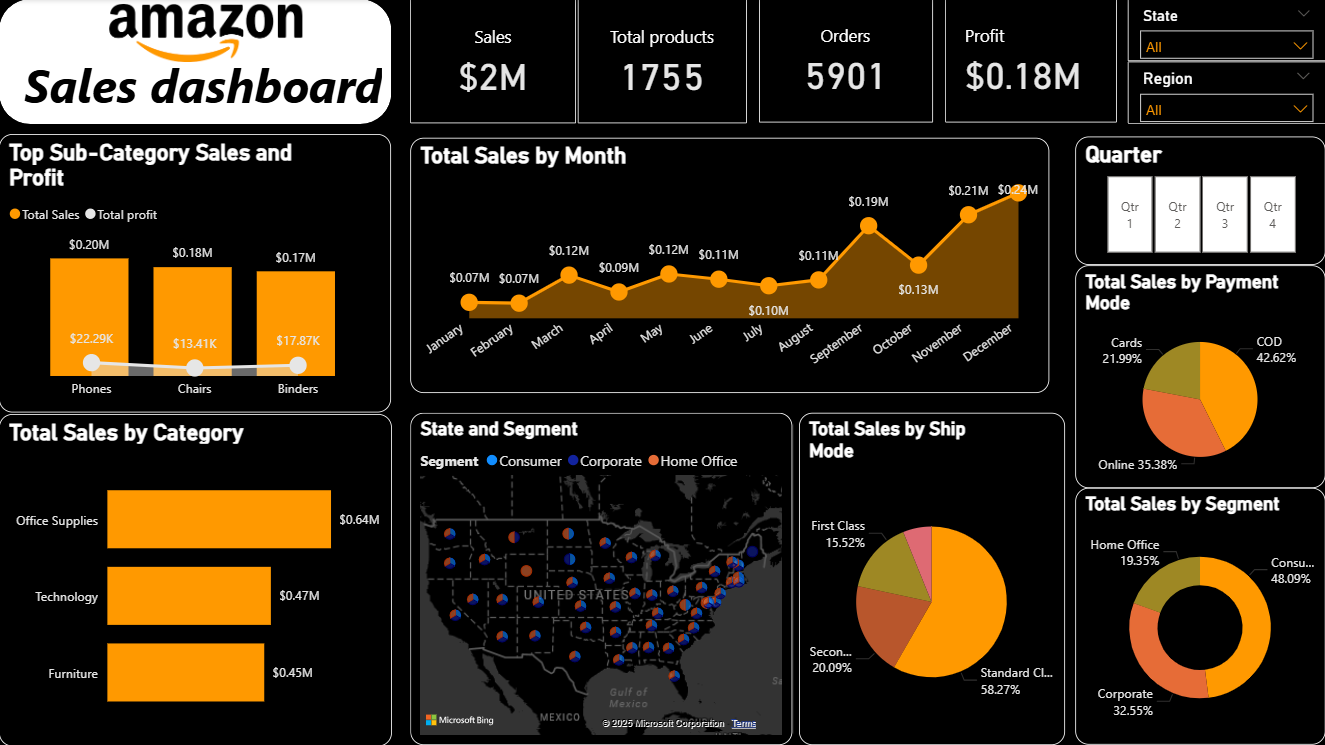

Layout of this report page (visuals, bound fields, positions):
{"tool":"powerbi","page":{"name":"Page 1","canvas":[1280,720],"ordinal":0},"visuals":[{"type":"shape","title":"Amazon Sales Performance","box":[0,0,378.7,120.8],"z":0,"group":"g1"},{"type":"image","box":[75.7,0,247.1,65.7],"z":1000,"group":"g1"},{"type":"cardVisual","fields":{"Data":["Amazon stores.Total products"]},"box":[558.3,0,163.3,120],"z":4000},{"type":"cardVisual","fields":{"Data":["Amazon stores.Total orders"]},"box":[733.5,0,167.7,119.4],"z":5000},{"type":"cardVisual","fields":{"Data":["Amazon stores.Total profit"]},"box":[913.3,0,165.3,119.4],"z":6000},{"type":"cardVisual","fields":{"Data":["Amazon stores.Total Sales"]},"box":[396.7,0,160,120],"z":7000},{"type":"slicer","fields":{"Values":["Amazon stores.State"]},"box":[1089.1,0,190.9,60],"z":8000},{"type":"slicer","fields":{"Values":["Amazon stores.Region"]},"box":[1089.1,60,190.9,60],"z":9000},{"type":"lineStackedColumnComboChart","title":"Top Sub-Category Sales and Profit","fields":{"Y":["Amazon stores.Total Sales"],"Y2":["Amazon stores.Total profit"],"Category":["Amazon stores.Sub-Category"]},"box":[0,130.4,378.7,269],"z":10000},{"type":"clusteredBarChart","fields":{"Category":["Amazon stores.Category"],"Y":["Amazon stores.Total Sales"]},"box":[0,400,378.9,320.6],"z":12000},{"type":"pieChart","fields":{"Category":["Amazon stores.Payment Mode"],"Y":["Amazon stores.Total Sales"]},"box":[1038.3,256.7,241.7,215],"z":13000},{"type":"slicer","title":"Quarter","fields":{"Values":["Amazon stores.Order Date.Variation.Date Hierarchy.Quarter"]},"box":[1038.6,132.9,241.4,124.3],"z":14000},{"type":"lineChart","fields":{"Y":["Amazon stores.Total Sales"],"Category":["Amazon stores.Order Date.Variation.Date Hierarchy.Month"]},"box":[396.7,133.3,616.7,246.7],"z":15000},{"type":"map","fields":{"Category":["Amazon stores.State"],"Series":["Amazon stores.Segment"]},"box":[396.6,399.3,369.1,321.1],"z":16000},{"type":"donutChart","fields":{"Category":["Amazon stores.Segment"],"Y":["Amazon stores.Total Sales"]},"box":[1038.3,471.7,241.7,248.3],"z":17000},{"type":"pieChart","fields":{"Category":["Amazon stores.Ship Mode"],"Y":["Amazon stores.Total Sales"]},"box":[772.6,399.3,256.6,321.1],"z":18000},{"type":"group","id":"g1","title":"Group 1","box":[0,0,378.8,120.6],"z":18001}]}

Visuals, with their boxes in screenshot pixels (x1, y1, x2, y2), scaled from the page's 1280x720 canvas onto the 1325x745 screenshot:
"Amazon Sales Performance" shape: rect(0, 0, 392, 125)
image: rect(78, 0, 334, 68)
cardVisual - Amazon stores.Total products: rect(578, 0, 747, 124)
cardVisual - Amazon stores.Total orders: rect(759, 0, 933, 124)
cardVisual - Amazon stores.Total profit: rect(945, 0, 1117, 124)
cardVisual - Amazon stores.Total Sales: rect(411, 0, 576, 124)
slicer - Amazon stores.State: rect(1127, 0, 1324, 62)
slicer - Amazon stores.Region: rect(1127, 62, 1324, 124)
"Top Sub-Category Sales and Profit" lineStackedColumnComboChart: rect(0, 135, 392, 413)
clusteredBarChart - Amazon stores.Category x Amazon stores.Total Sales: rect(0, 414, 392, 744)
pieChart - Amazon stores.Payment Mode x Amazon stores.Total Sales: rect(1075, 266, 1324, 488)
"Quarter" slicer: rect(1075, 138, 1324, 266)
lineChart - Amazon stores.Total Sales x Amazon stores.Order Date.Variation.Date Hierarchy.Month: rect(411, 138, 1049, 393)
map - Amazon stores.State x Amazon stores.Segment: rect(411, 413, 793, 744)
donutChart - Amazon stores.Segment x Amazon stores.Total Sales: rect(1075, 488, 1324, 744)
pieChart - Amazon stores.Ship Mode x Amazon stores.Total Sales: rect(800, 413, 1065, 744)
"Group 1" group: rect(0, 0, 392, 125)
